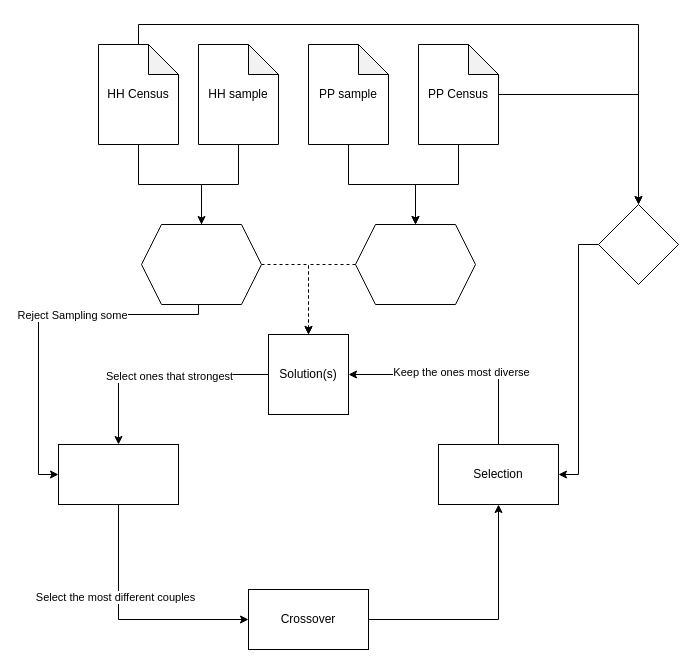
Image size: 696x667. Some labels were removed from this diagram. Each missing label, with the centre of its shape:
"HH BN" goes at pixel 415 264.
"Main fitness func" goes at pixel 638 244.
"Mutation (focus on PP level)" goes at pixel 118 474.
"PP BN" goes at pixel 201 264.
